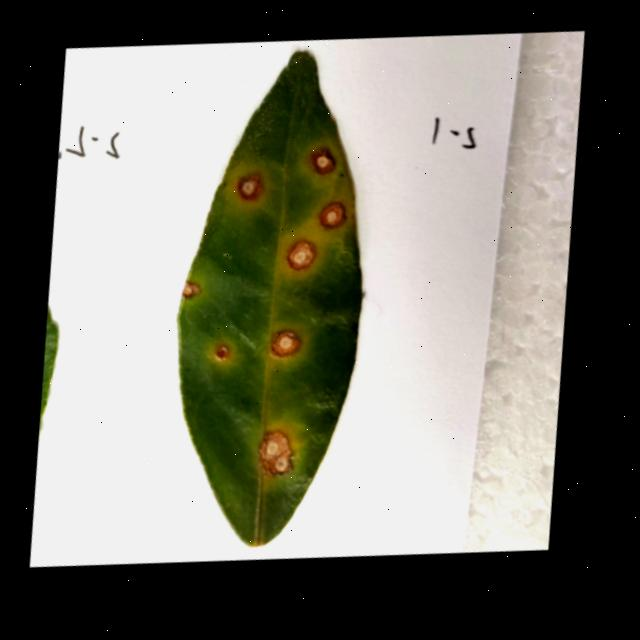antracnose: (176, 51, 360, 545), (258, 431, 291, 476), (285, 241, 314, 270), (269, 330, 299, 357), (318, 203, 343, 227), (236, 175, 260, 200), (310, 149, 333, 174), (181, 281, 199, 298), (213, 346, 227, 361)
